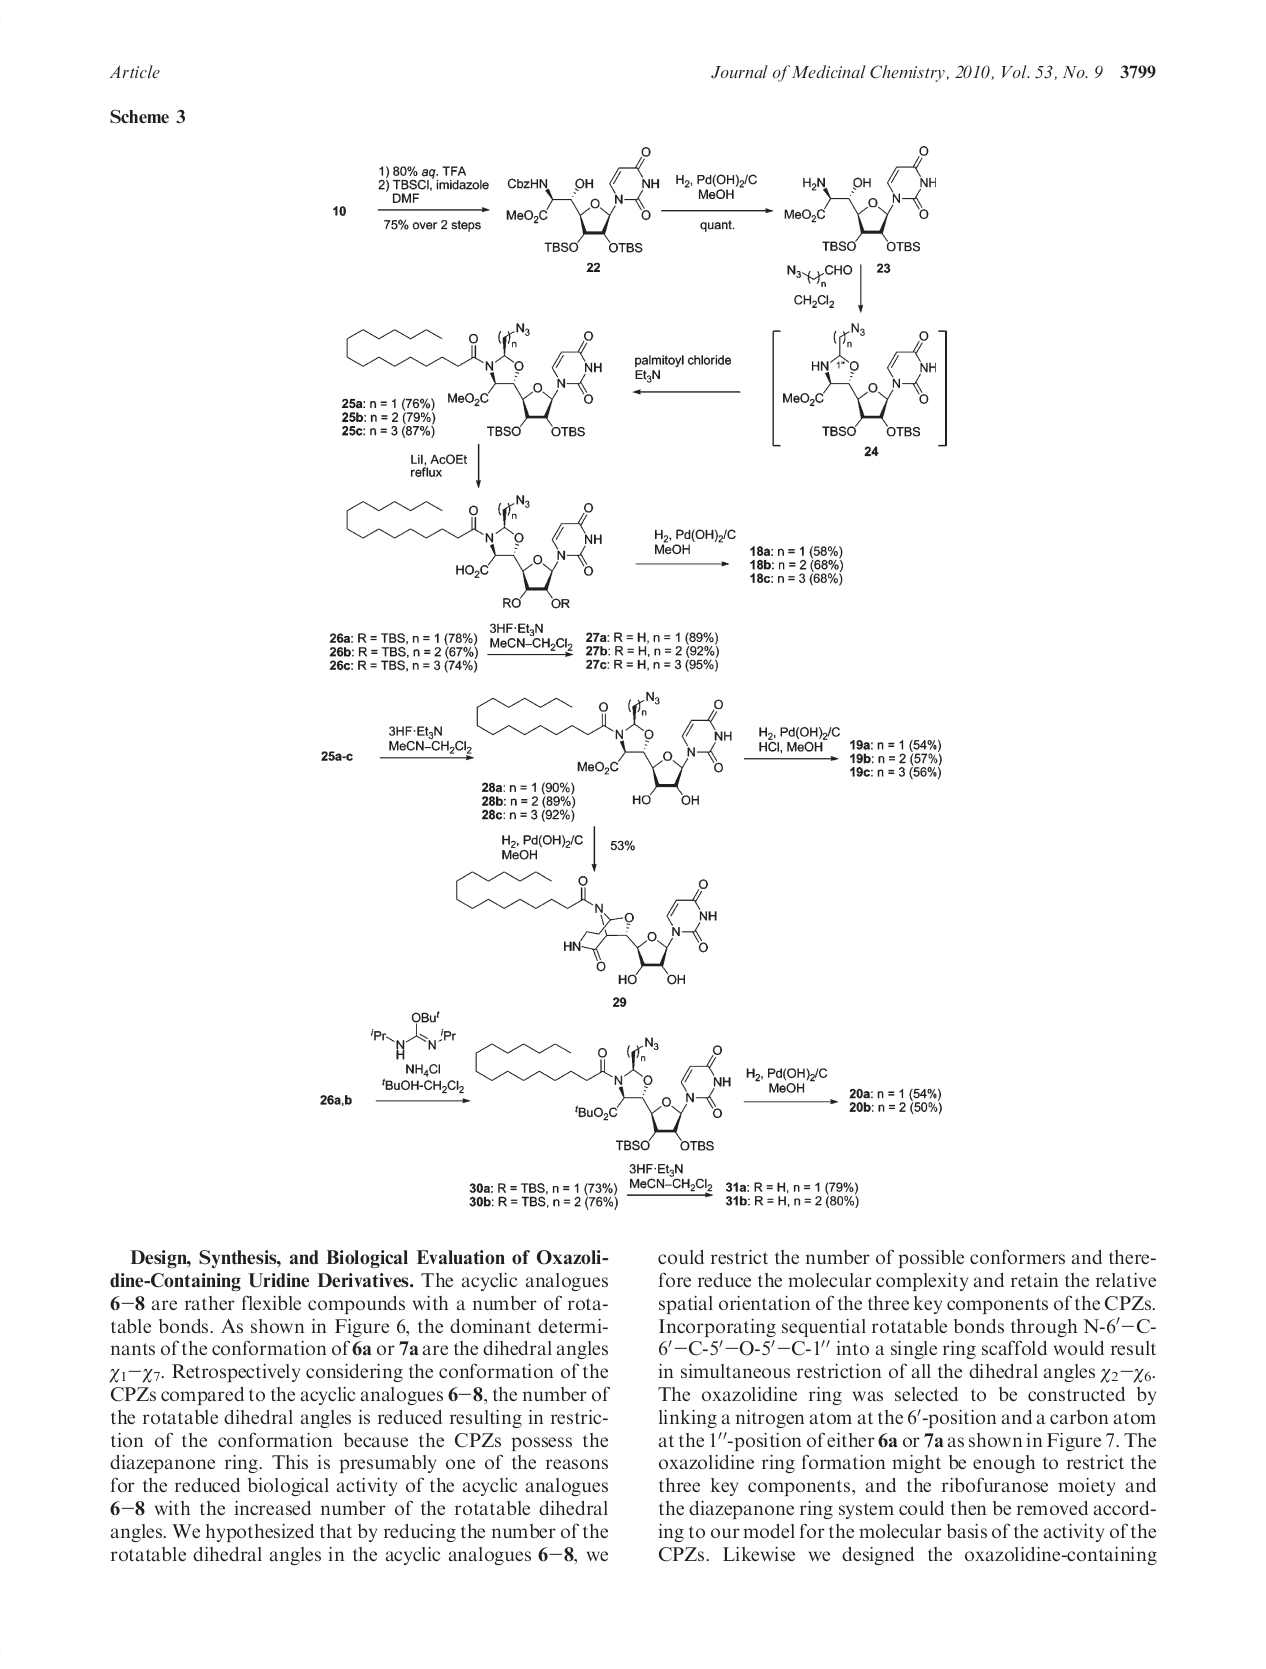exist_molecular: (343, 317, 598, 440), (453, 870, 721, 987), (340, 495, 606, 610), (473, 1035, 734, 1152), (473, 694, 733, 807), (782, 144, 938, 309), (781, 322, 939, 438), (504, 142, 662, 255), (367, 1008, 457, 1063)
